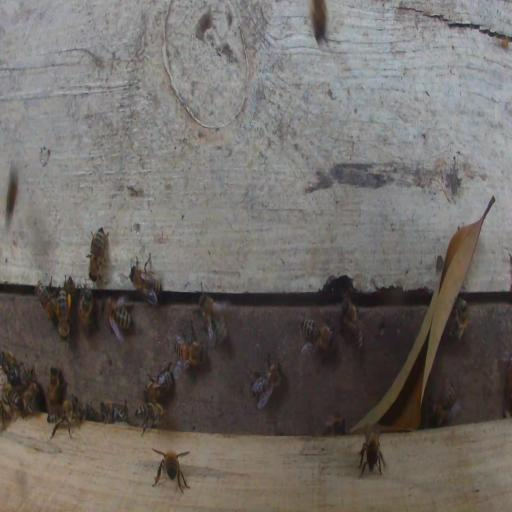nonpollenbee: (249, 357, 284, 411), (153, 448, 190, 494), (174, 325, 206, 370), (47, 397, 80, 439), (428, 384, 460, 426), (358, 430, 385, 478), (105, 298, 133, 341), (87, 226, 108, 283), (341, 297, 364, 349), (144, 363, 174, 402), (201, 295, 227, 340), (135, 401, 167, 436), (301, 317, 333, 351), (447, 295, 469, 341), (131, 267, 163, 298), (78, 286, 97, 336), (37, 279, 57, 321), (310, 0, 329, 44), (46, 366, 63, 412), (2, 383, 25, 417), (6, 165, 18, 216), (24, 380, 41, 414), (100, 402, 126, 424), (2, 350, 20, 380), (323, 416, 346, 435), (20, 362, 33, 386), (65, 275, 74, 300)
pollenbee: (57, 289, 72, 338)
